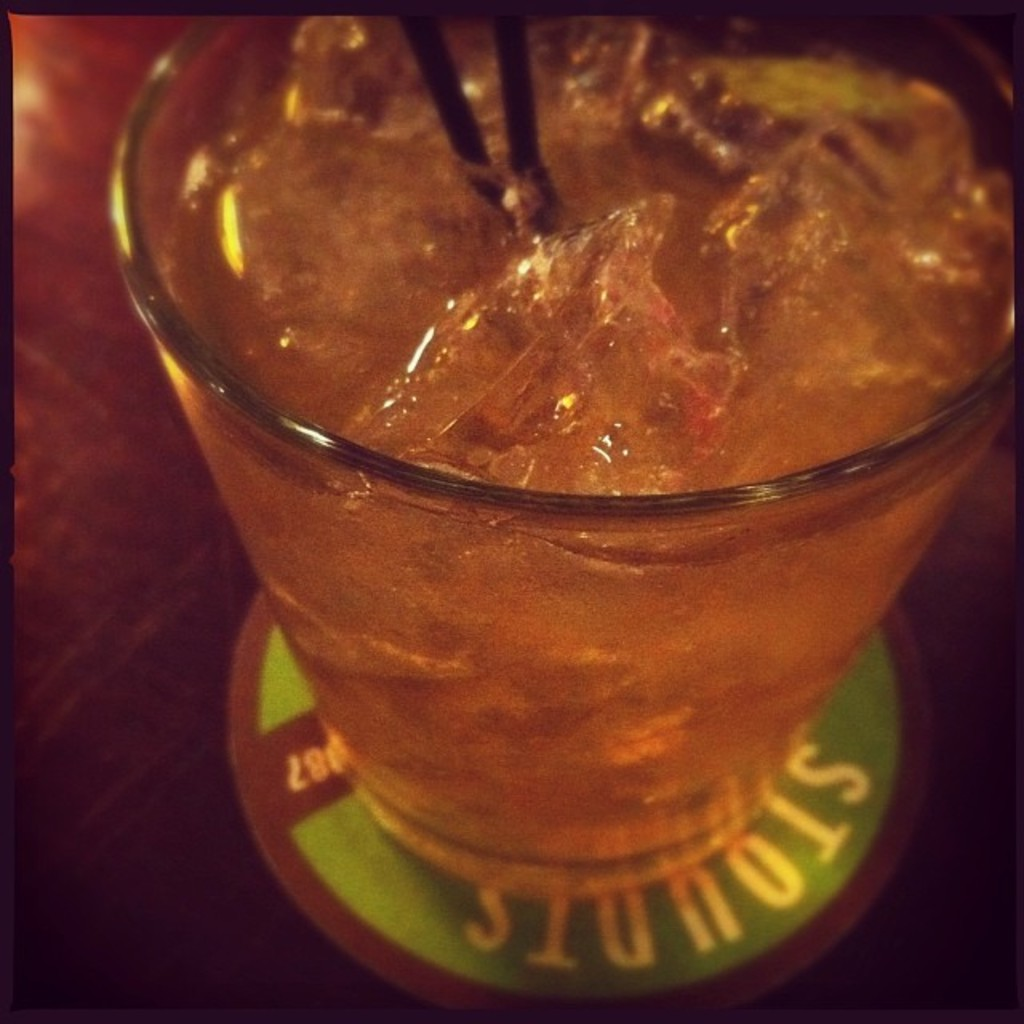Beer: (155, 3, 1022, 888)
